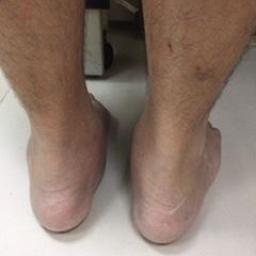Back View -Both Feet-: (14, 62, 237, 247)
